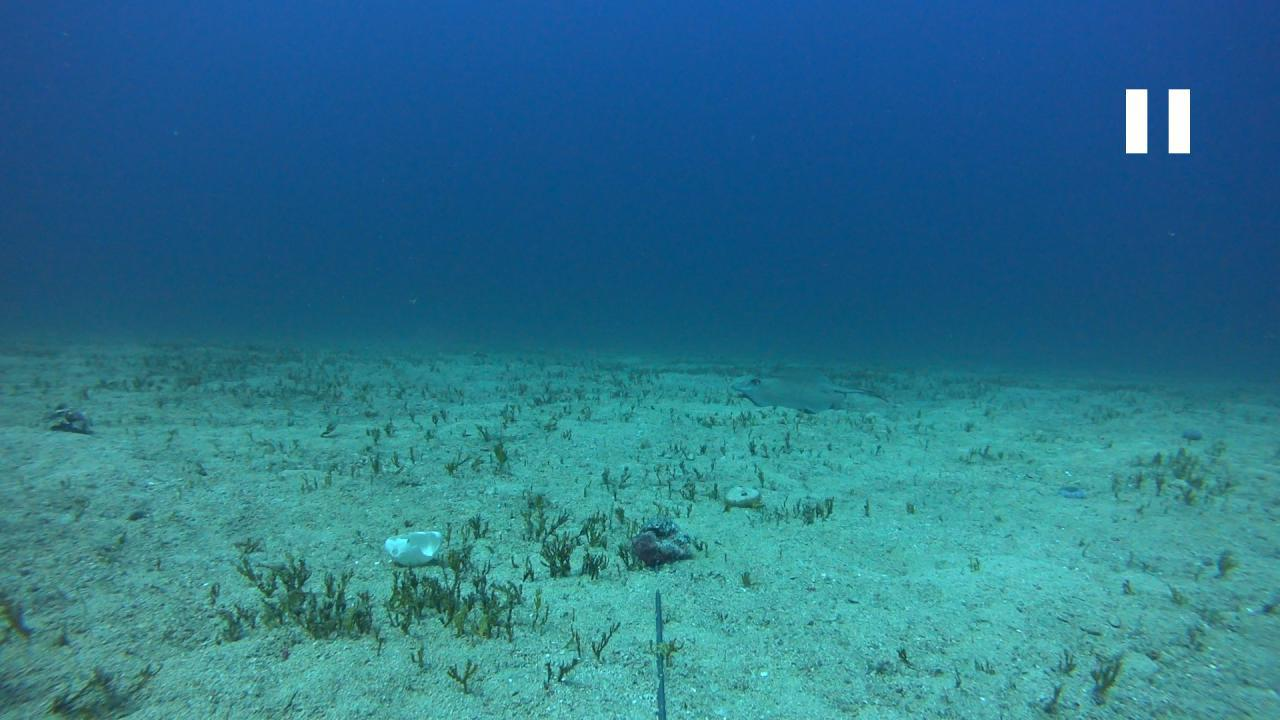dasyatis: (730, 362, 888, 412)
